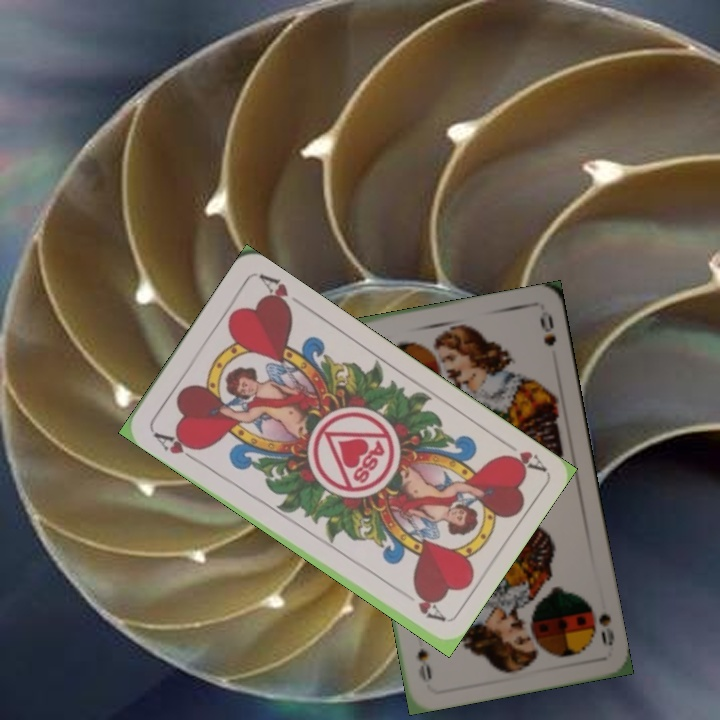HA: (494, 434, 547, 475), (149, 427, 203, 465)
SO: (584, 595, 617, 648)
